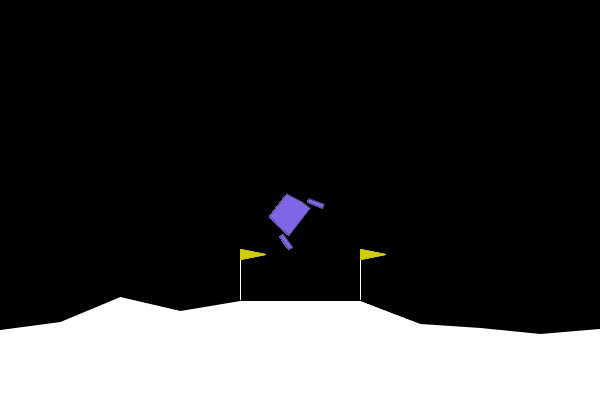lander: (258, 181, 326, 252)
